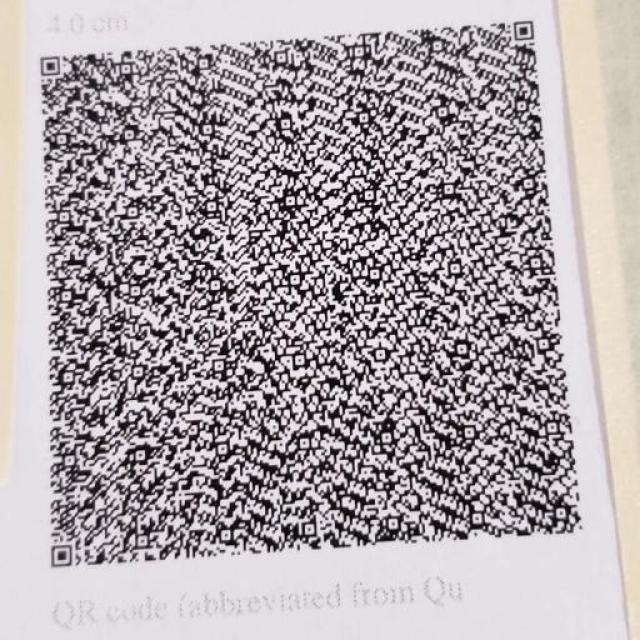QR_CODE: (21, 9, 599, 579)
